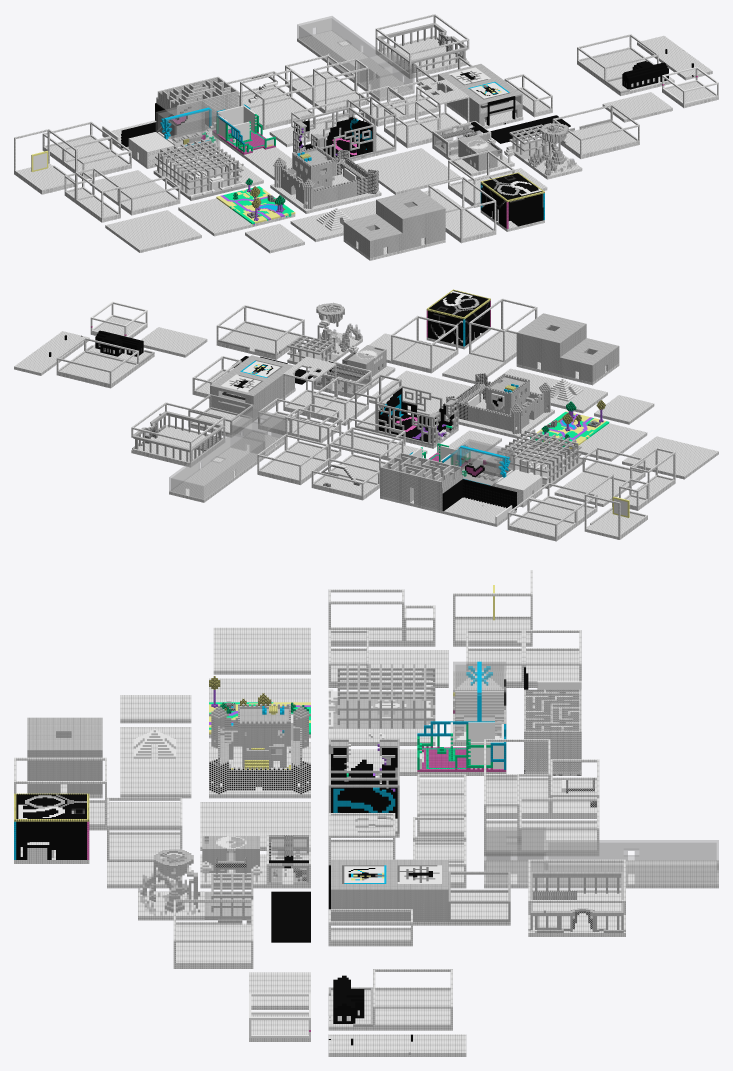
The model's file is FantasyFields-v1.glb.
3 views of the same model, one above another, from view 1: azimuth 30°, elevation 25°; view 2: azimuth 150°, elevation 25°; view 3: azimuth 270°, elevation 25° (orthographic). The views are drawn at different scales.
Visible parts, largest first — view 1: solid-voxels_2.004, solid-voxels_31.003, solid-voxels_36.003, solid-voxels_54.003, solid-voxels_42.003, solid-voxels_61.003, solid-voxels_49.003, solid-voxels_25.003, glass-voxels_4.004, solid-voxels_57.003, solid-voxels_20.003, solid-voxels_21.003 (+49 smaller); view 2: solid-voxels_36.003, solid-voxels_2.004, solid-voxels_54.003, solid-voxels_25.003, solid-voxels_49.003, glass-voxels_4.004, solid-voxels_31.003, solid-voxels_42.003, solid-voxels_61.003, solid-voxels_58.003, solid-voxels_20.003, solid-voxels_39.003 (+50 smaller); view 3: solid-voxels_54.003, glass-voxels_4.004, solid-voxels_36.003, solid-voxels_31.003, solid-voxels_2.004, solid-voxels_61.003, solid-voxels_42.003, solid-voxels_25.003, solid-voxels_57.003, solid-voxels_20.003, solid-voxels_39.003, solid-voxels_49.003 (+52 smaller).
Boxes of the visible parts, x1,y1,x2,y2 form: solid-voxels_2.004: (270,146,360,213); solid-voxels_31.003: (153,139,244,200); solid-voxels_36.003: (375,14,469,78); solid-voxels_54.003: (438,64,523,128); solid-voxels_42.003: (376,189,445,252); solid-voxels_61.003: (480,172,544,231); solid-voxels_49.003: (293,107,374,161); solid-voxels_25.003: (156,76,238,136); glass-voxels_4.004: (297,16,390,82); solid-voxels_57.003: (105,210,201,252); solid-voxels_20.003: (552,104,639,158); solid-voxels_21.003: (343,214,402,260); solid-voxels_36.003: (131,402,225,467); solid-voxels_2.004: (465,373,554,438); solid-voxels_54.003: (210,355,295,420); solid-voxels_25.003: (380,452,462,513); solid-voxels_49.003: (376,385,458,448); glass-voxels_4.004: (169,433,264,499); solid-voxels_31.003: (494,429,585,488); solid-voxels_42.003: (516,313,586,377); solid-voxels_61.003: (426,289,490,349); solid-voxels_58.003: (442,479,516,526); solid-voxels_20.003: (216,305,304,359); solid-voxels_39.003: (169,447,265,502); solid-voxels_54.003: (328,859,448,925); glass-voxels_4.004: (546,840,718,883); solid-voxels_36.003: (528,859,625,936); solid-voxels_31.003: (328,664,435,728); solid-voxels_2.004: (209,704,310,769); solid-voxels_61.003: (14,793,89,863); solid-voxels_42.003: (27,720,102,798); solid-voxels_25.003: (524,689,581,775); solid-voxels_57.003: (213,627,310,674); solid-voxels_20.003: (173,899,253,968); solid-voxels_39.003: (546,860,718,888); solid-voxels_49.003: (328,739,399,818).
Size of the model in its own units: 232 by 13 by 159.
2 materials, 1 textured.
